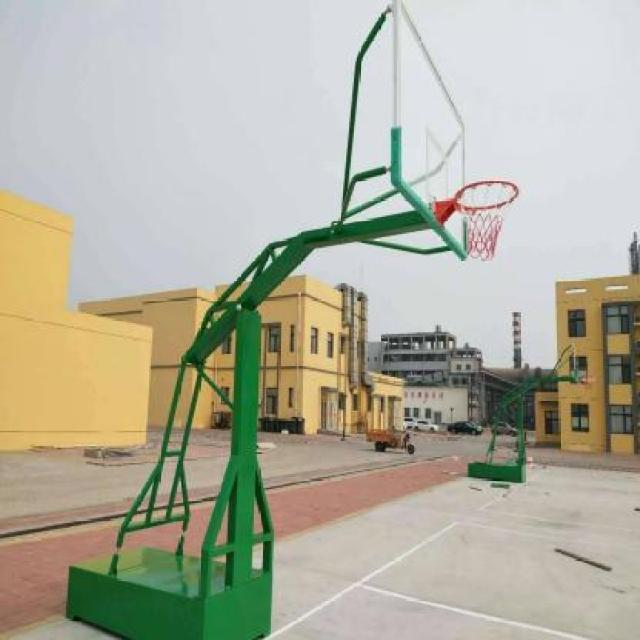rim: (454, 178, 518, 258)
